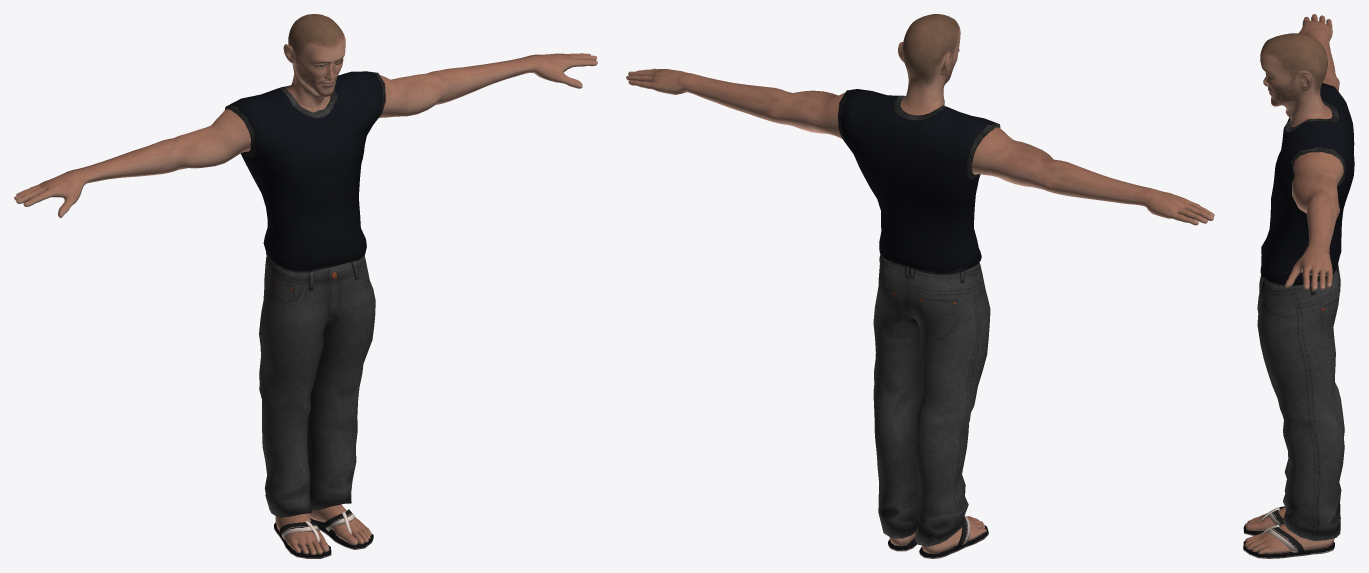
Rendered from Kosiposha.obj.
The picture shows the model from 3 angles, left to right: view 1: azimuth 30°, elevation 25°; view 2: azimuth 150°, elevation 25°; view 3: azimuth 270°, elevation 25°; orthographic projection. The views are drawn at different scales.
Visible parts, largest first — view 1: Bottoms, Tops, Body, Shoes; view 2: Bottoms, Tops, Body, Shoes; view 3: Bottoms, Body, Tops, Shoes.
Boxes of the visible parts, left/top/right/bottom form: Bottoms: left=259, top=255, right=375, bottom=517; Tops: left=224, top=71, right=385, bottom=272; Body: left=14, top=14, right=597, bottom=554; Shoes: left=274, top=509, right=373, bottom=558; Bottoms: left=873, top=255, right=990, bottom=546; Tops: left=838, top=89, right=1000, bottom=274; Body: left=626, top=14, right=1214, bottom=553; Shoes: left=888, top=516, right=988, bottom=558; Bottoms: left=1257, top=264, right=1344, bottom=540; Body: left=1244, top=14, right=1343, bottom=554; Tops: left=1261, top=83, right=1354, bottom=286; Shoes: left=1243, top=506, right=1334, bottom=558.
Bounding box in the file's own units: 212 × 180 × 36.04.
Materials: 4 (4 with a texture image).
